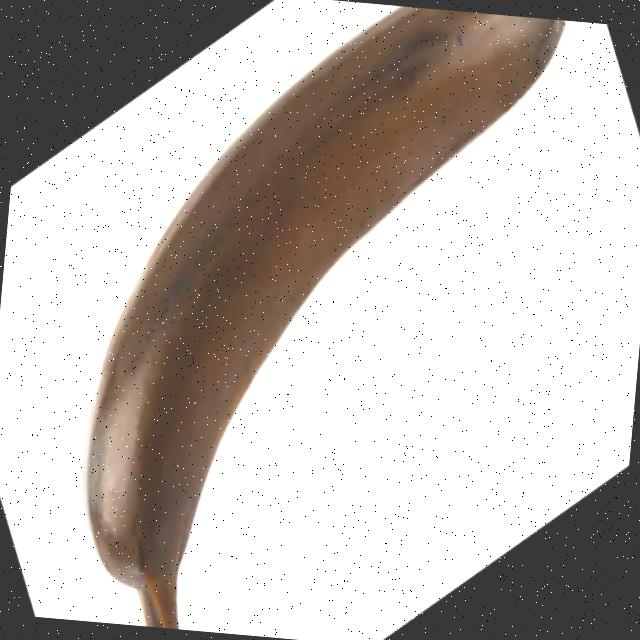Rotten: (47, 0, 584, 640)
